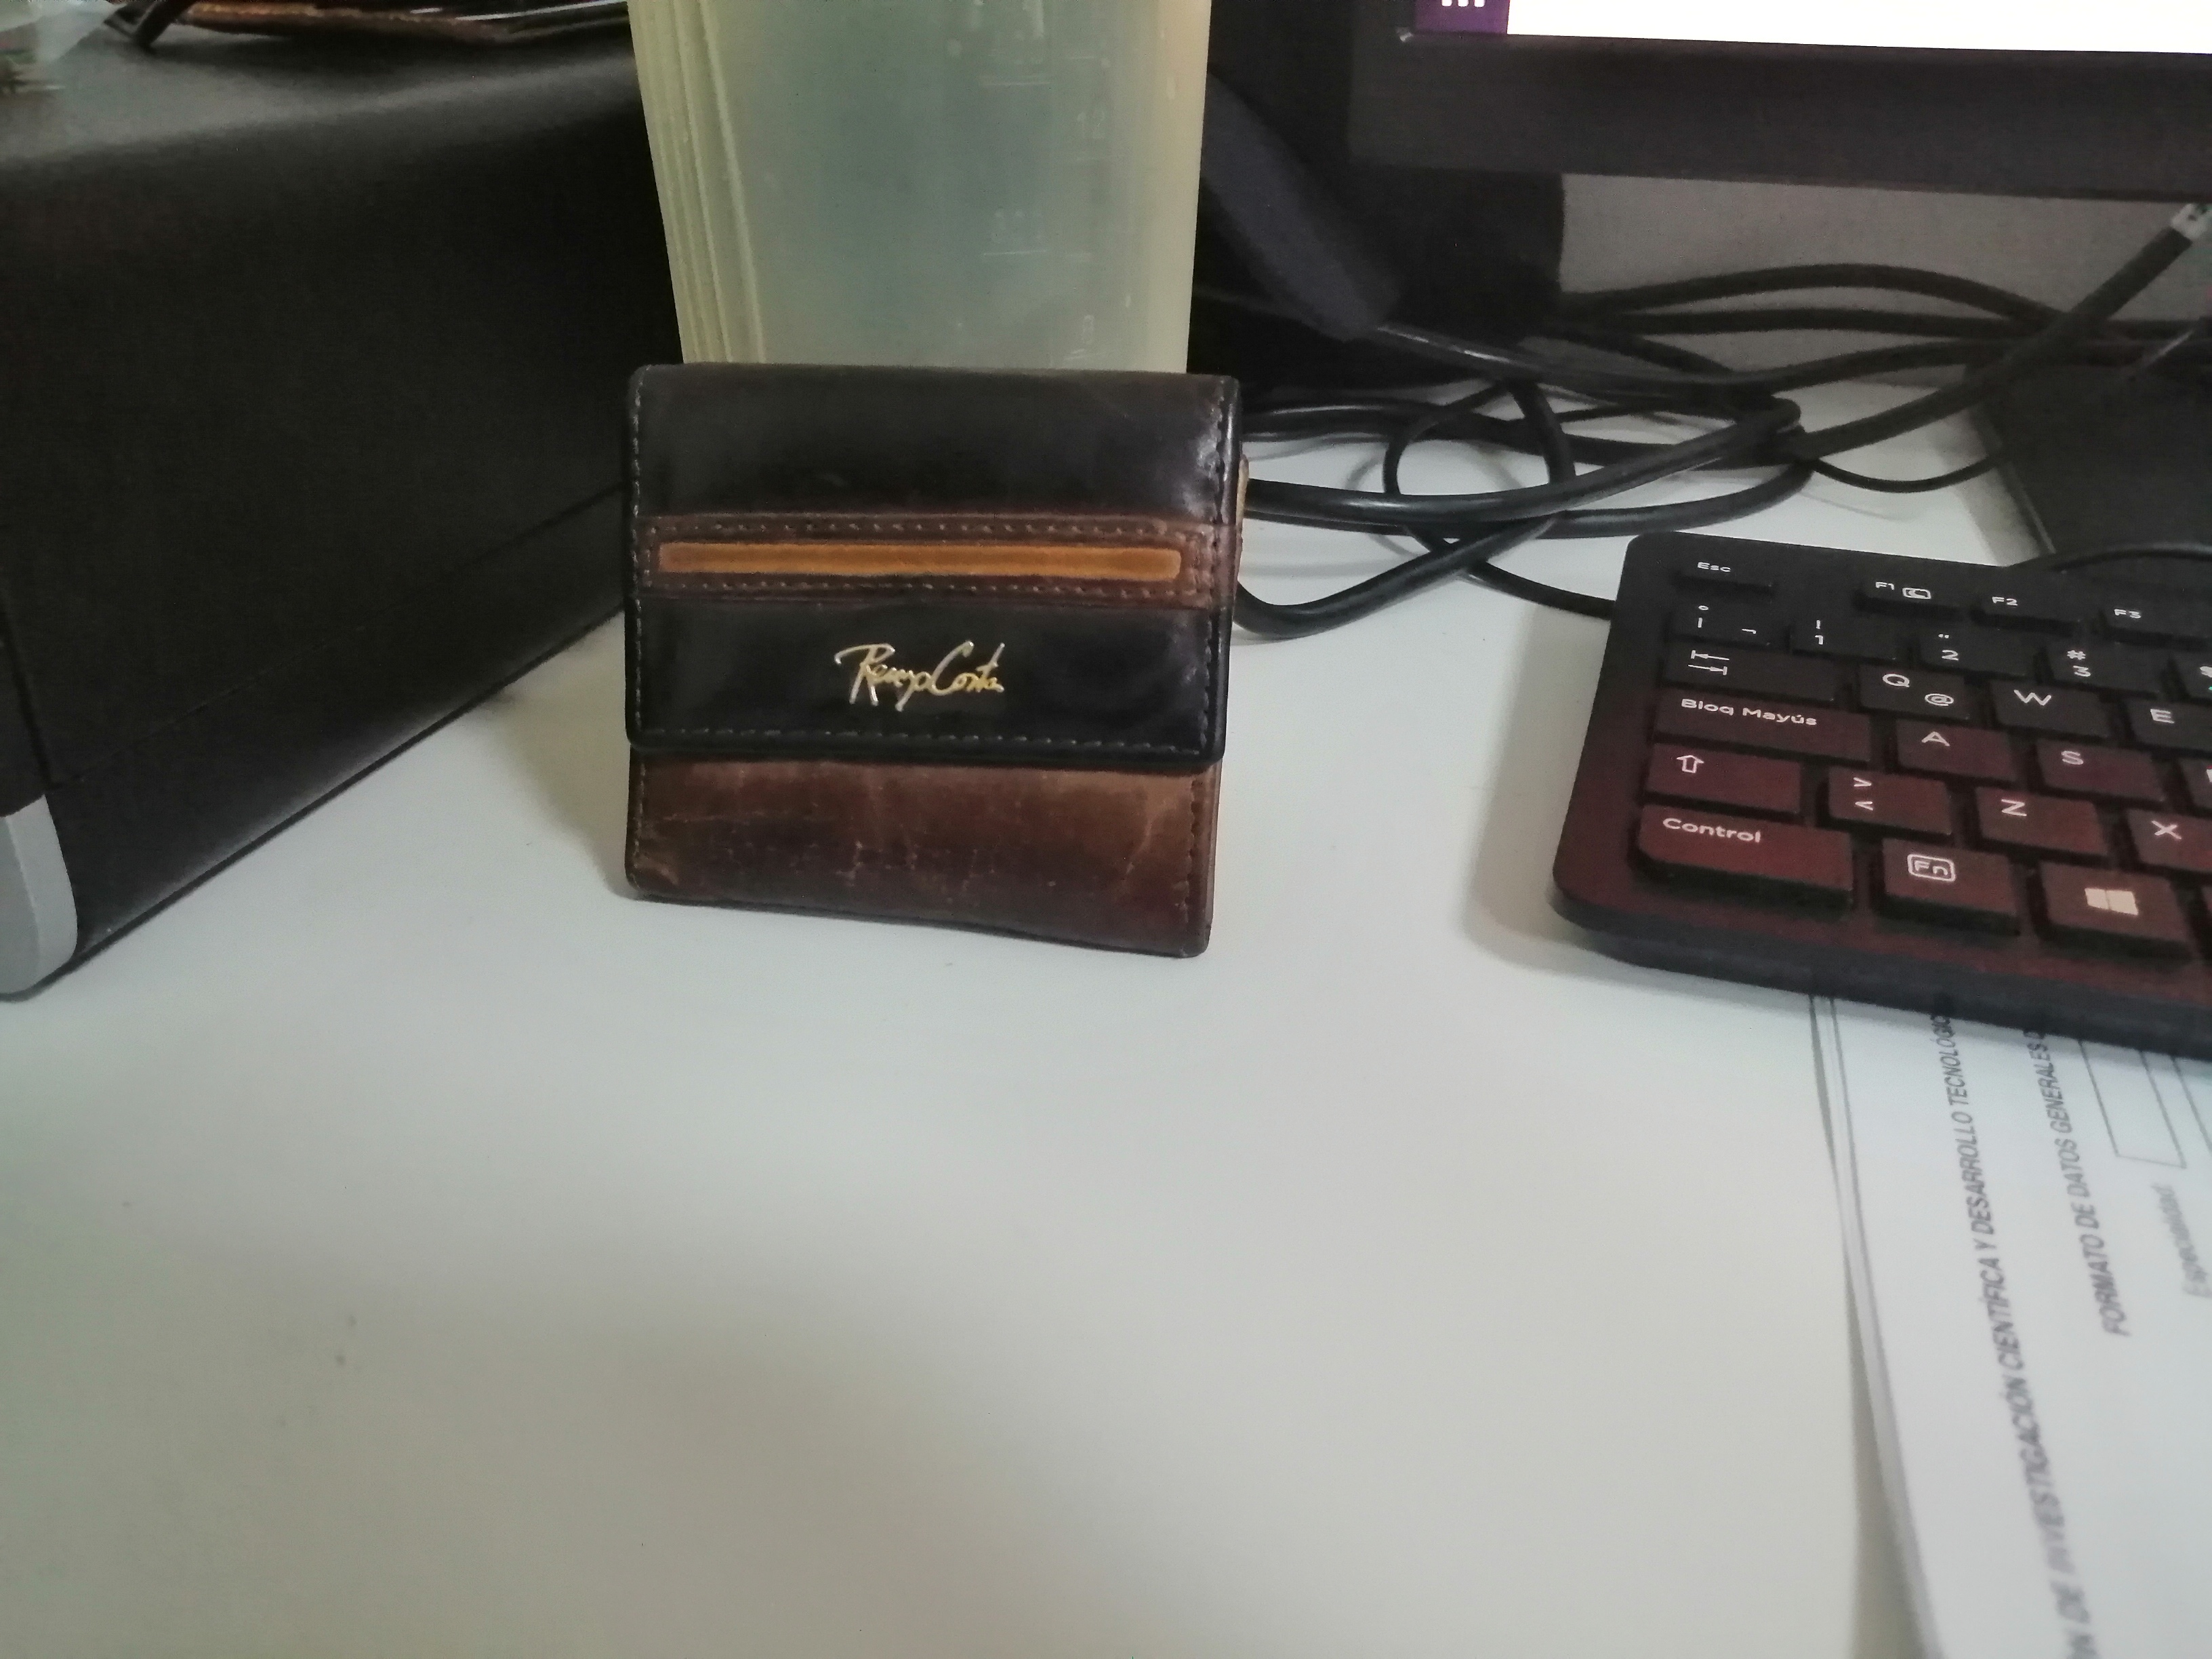monedero: (580, 342, 1258, 988)
